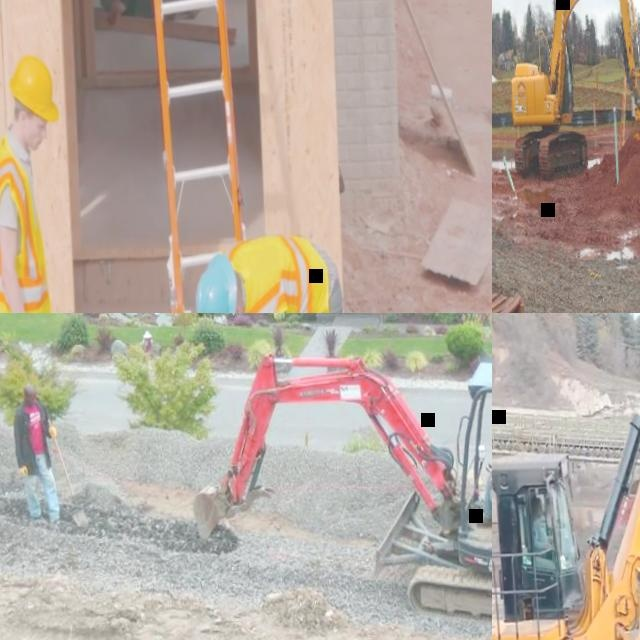Hardhat: (9, 53, 60, 126), (193, 251, 241, 313)
NO-Hardhat: (24, 383, 37, 394), (534, 496, 542, 506)
NO-Mask: (29, 127, 44, 150), (27, 400, 37, 406)
NO-Safety Vest: (534, 517, 550, 552)
Person: (0, 51, 70, 313), (194, 228, 355, 313), (11, 382, 63, 525), (470, 391, 492, 526), (104, 0, 201, 27), (531, 494, 554, 553)
Safety Vest: (0, 127, 54, 313), (230, 230, 333, 313), (22, 405, 47, 456)
machinery: (182, 339, 492, 640), (492, 313, 640, 640), (501, 0, 640, 188), (618, 474, 640, 535)
